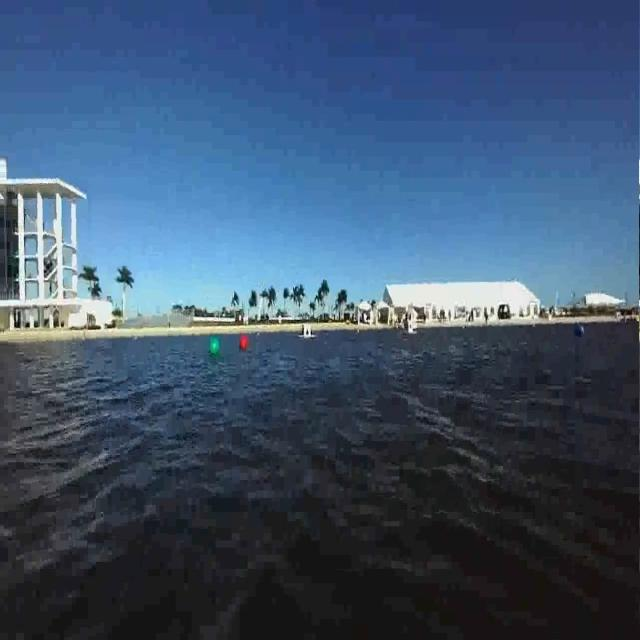green-buoy: (209, 337, 221, 357)
red-buoy: (233, 325, 250, 354)
